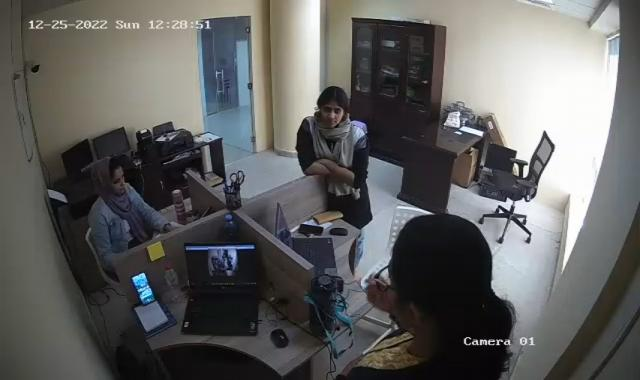no_hairnet: (375, 212, 514, 346), (314, 84, 348, 127), (90, 156, 127, 188)
